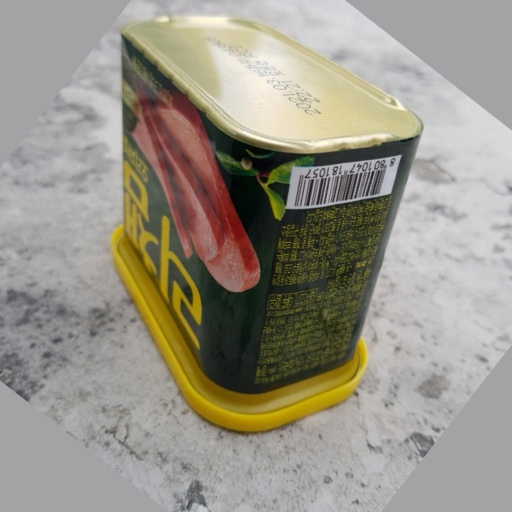Metal_2: (114, 17, 427, 435)
